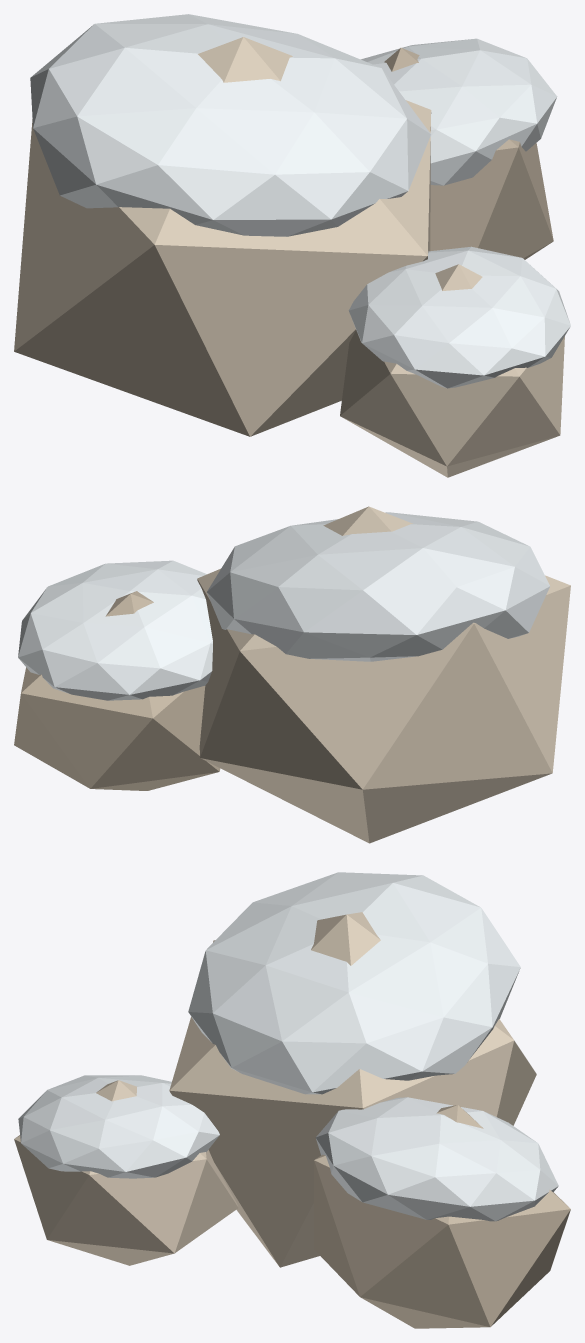
File: rock_small_b_snow.glb
3 views of the same model, one above another, from view 1: azimuth 30°, elevation 25°; view 2: azimuth 150°, elevation 25°; view 3: azimuth 270°, elevation 25° (orthographic). The views are drawn at different scales.
Parts seen in each view (by area): view 1: rock_small_b_snow; view 2: rock_small_b_snow; view 3: rock_small_b_snow.
Part boxes in pixels (x1,y1,x2,y2): rock_small_b_snow: [14, 14, 570, 477]; rock_small_b_snow: [14, 506, 570, 843]; rock_small_b_snow: [14, 872, 570, 1328].
Size of the model in its own units: 0.6889 by 0.4423 by 0.6737.
